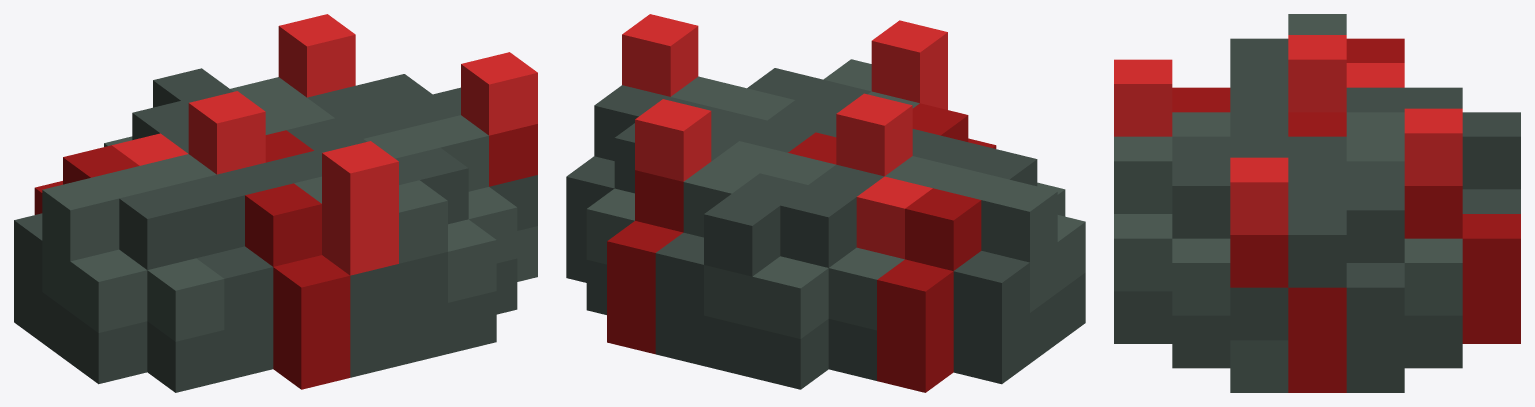
File: RubyDeposit_S.obj
3 renders of one model, left to right at view 1: azimuth 30°, elevation 25°; view 2: azimuth 150°, elevation 25°; view 3: azimuth 270°, elevation 25°, orthographic. The views are drawn at different scales.
Parts seen in each view (by area): view 1: RubyDeposit_S; view 2: RubyDeposit_S; view 3: RubyDeposit_S.
Part boxes in pixels (x1,y1,x2,y2): RubyDeposit_S: (14,14,537,392); RubyDeposit_S: (566,14,1085,392); RubyDeposit_S: (1114,14,1520,392).
Size of the model in its own units: 0.9 by 0.4 by 0.7.
1 material, 1 textured.
